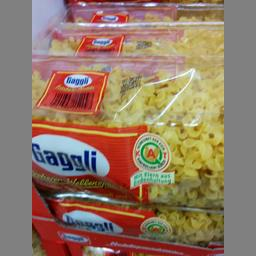pasta: (31, 55, 222, 208), (32, 8, 223, 54)
